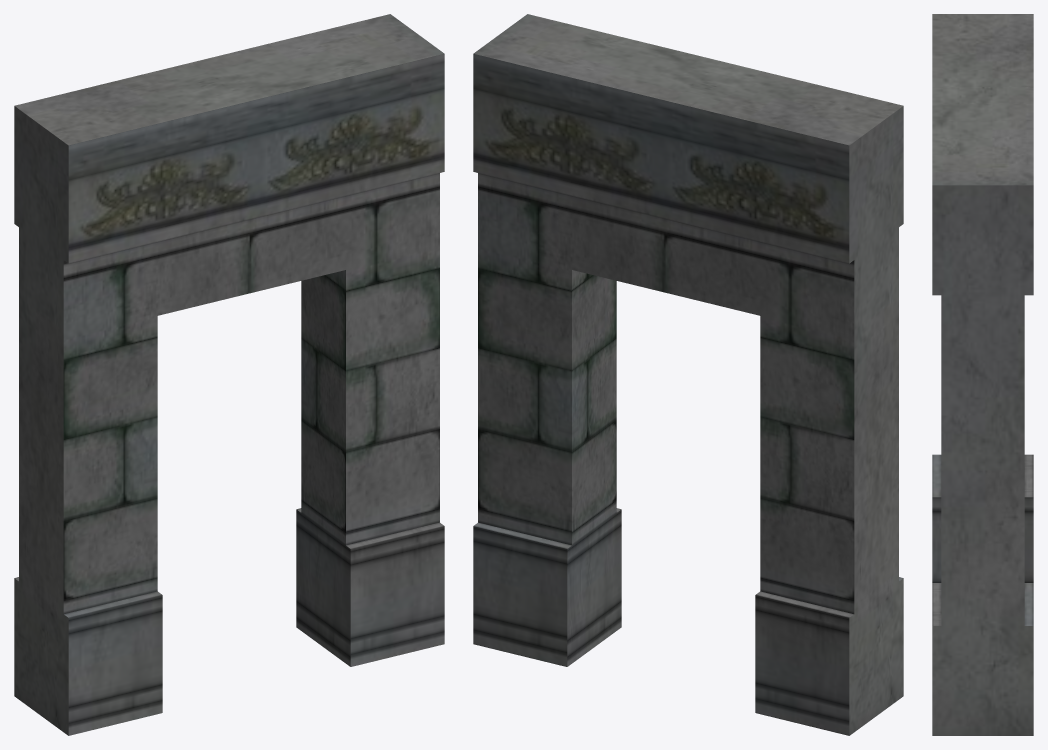
The model's file is door_01.glb.
3 renders of one model, left to right at view 1: azimuth 30°, elevation 25°; view 2: azimuth 150°, elevation 25°; view 3: azimuth 270°, elevation 25°, orthographic. The views are drawn at different scales.
Parts seen in each view (by area): view 1: door_01; view 2: door_01; view 3: door_01.
Part boxes in pixels (<box>): door_01: <box>14,14,444,735</box>; door_01: <box>473,14,903,735</box>; door_01: <box>932,14,1033,735</box>.
Bounding box in the file's own units: 2 × 3 × 0.5.
1 material, 1 textured.
